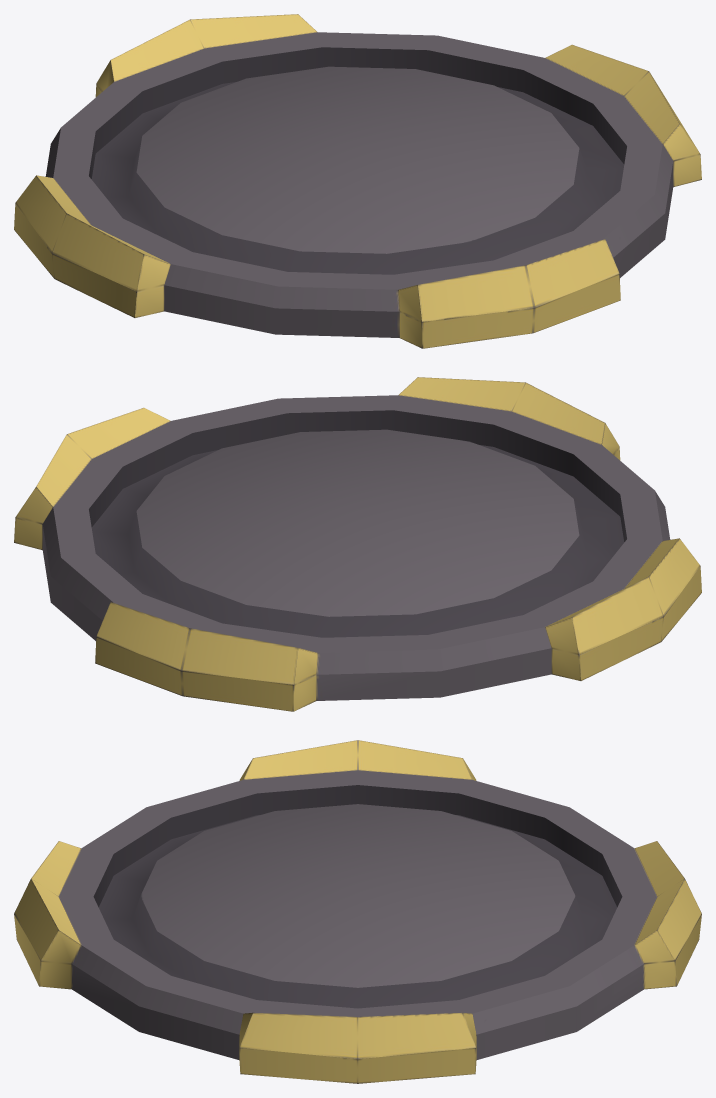
File: HealthBase.fbx
The picture shows the model from 3 angles, top to bottom: view 1: azimuth 30°, elevation 25°; view 2: azimuth 150°, elevation 25°; view 3: azimuth 270°, elevation 25°; orthographic projection. The views are drawn at different scales.
Visible parts, largest first — view 1: pCylinder1; view 2: pCylinder1; view 3: pCylinder1.
Part boxes in pixels (<box>): pCylinder1: <box>14,14,701,348</box>; pCylinder1: <box>14,377,701,711</box>; pCylinder1: <box>14,740,701,1083</box>.
Size of the model in its own units: 20.8 by 2.04 by 20.8.
Materials: 1 (1 with a texture image).
